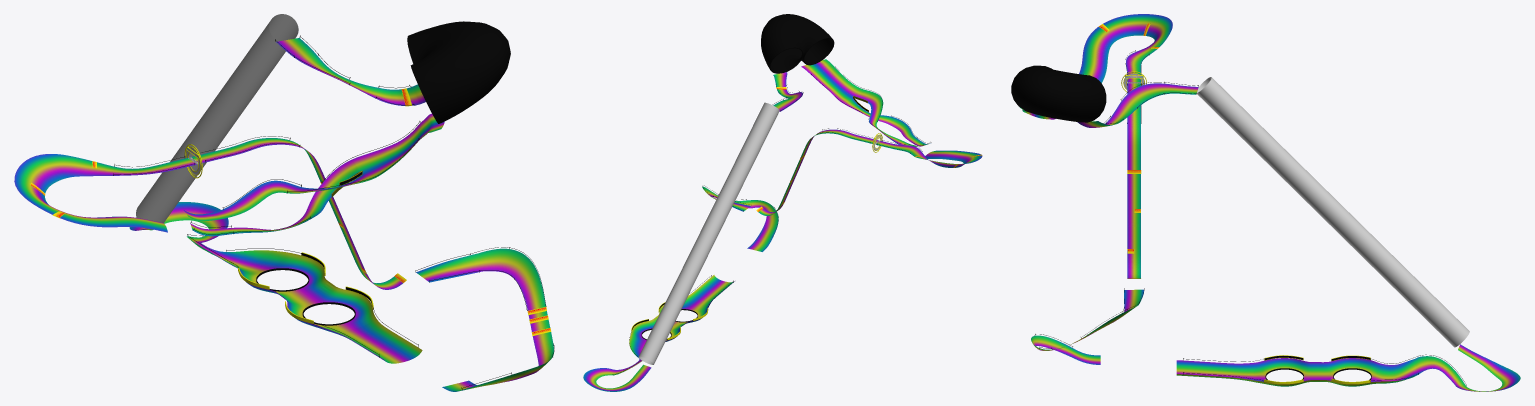
The model's file is Track.fbx.
3 renders of one model, left to right at view 1: azimuth 30°, elevation 25°; view 2: azimuth 150°, elevation 25°; view 3: azimuth 270°, elevation 25°, orthographic. The views are drawn at different scales.
Visible parts, largest first — view 1: Track; view 2: Track; view 3: Track.
Boxes of the visible parts, bbox=[...] form: Track: bbox=[14, 14, 554, 391]; Track: bbox=[583, 14, 982, 391]; Track: bbox=[1011, 14, 1520, 391].
Bounding box in the file's own units: 25443 × 20793 × 31041.
